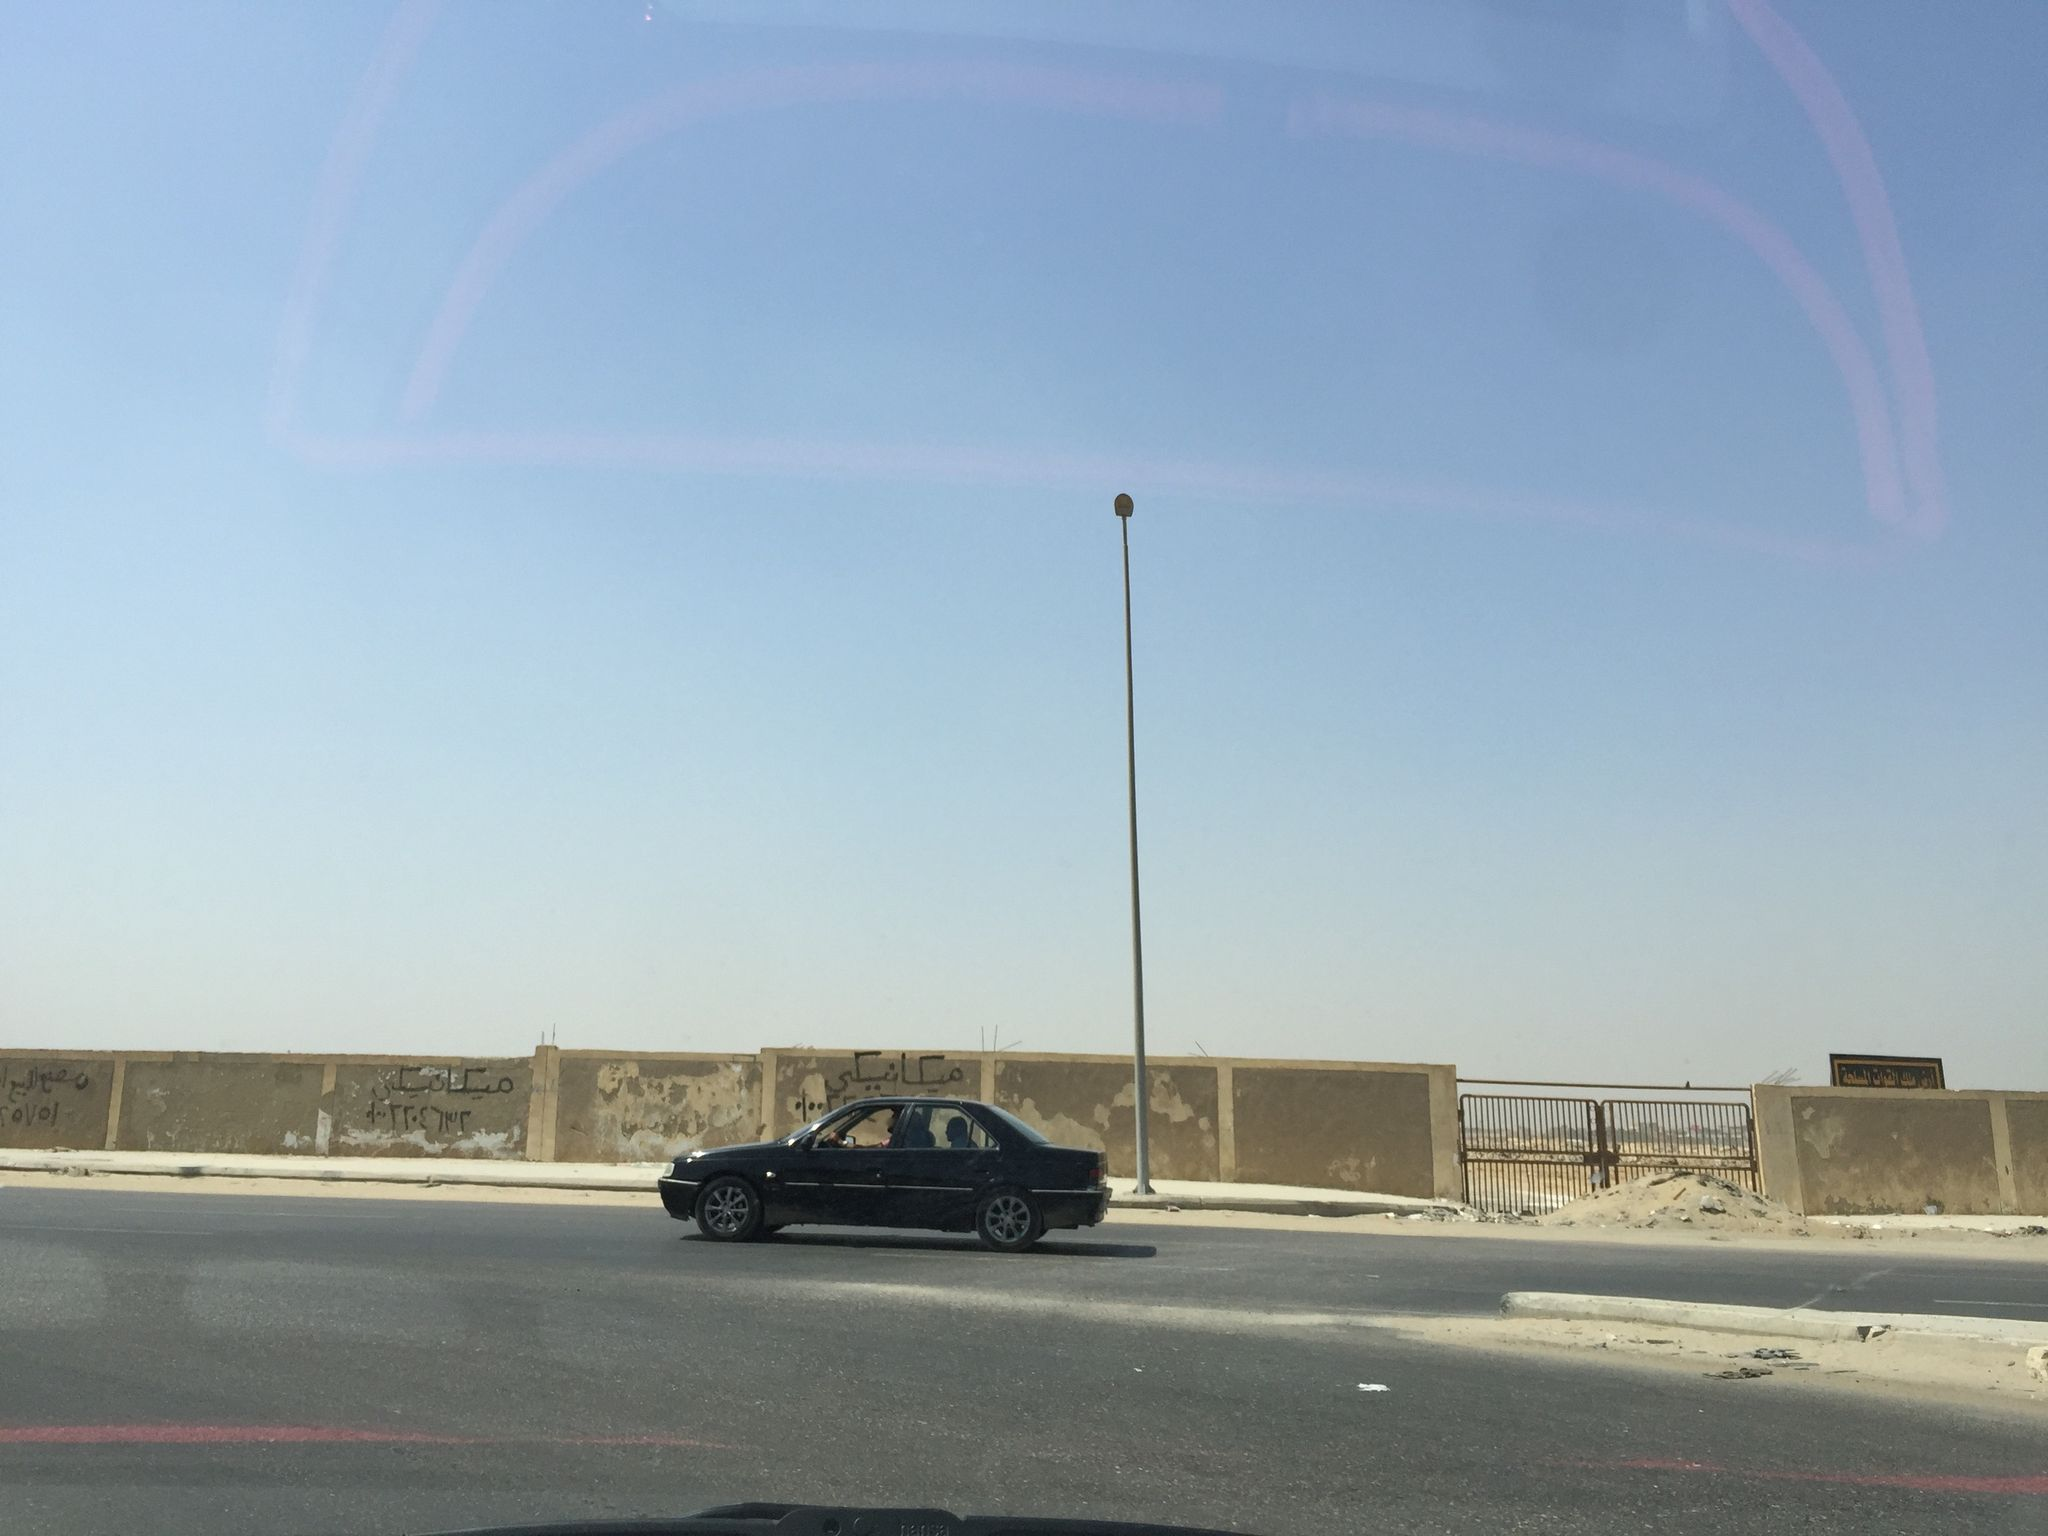car: (656, 1091, 1114, 1254)
